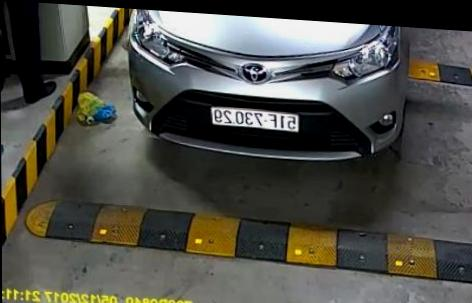License_Plate: (209, 103, 300, 136)
